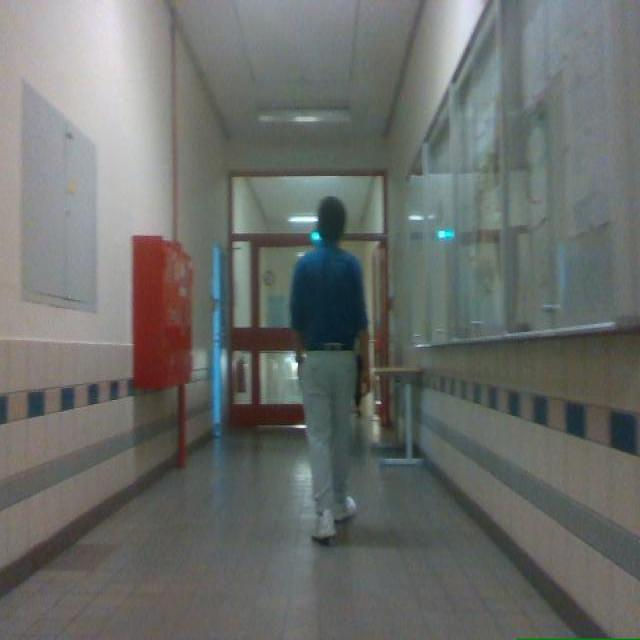humans: (290, 198, 369, 543), (354, 354, 362, 417)
